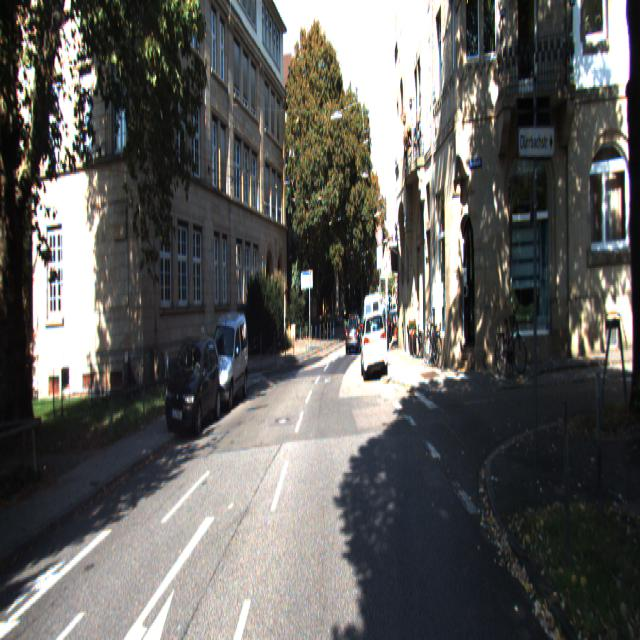Car: (161, 332, 223, 445), (203, 308, 249, 414), (360, 309, 388, 384), (363, 290, 384, 372), (345, 314, 361, 357)
